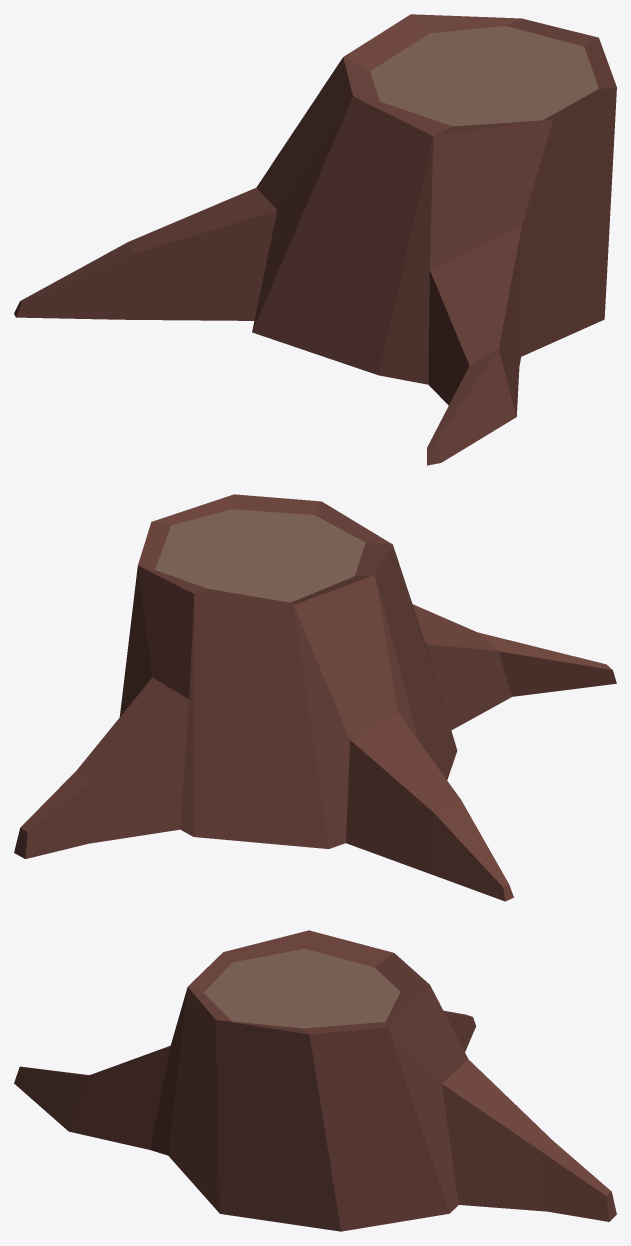
File: TreeTrunk.fbx
3 renders of one model, top to bottom at view 1: azimuth 30°, elevation 25°; view 2: azimuth 150°, elevation 25°; view 3: azimuth 270°, elevation 25°, orthographic. The views are drawn at different scales.
Parts seen in each view (by area): view 1: Cylinder; view 2: Cylinder; view 3: Cylinder.
Boxes of the visible parts, x1,y1,x2,y2 form: Cylinder: (14,14,616,465); Cylinder: (14,494,616,901); Cylinder: (14,930,616,1231).
Size of the model in its own units: 395 by 179 by 489.
